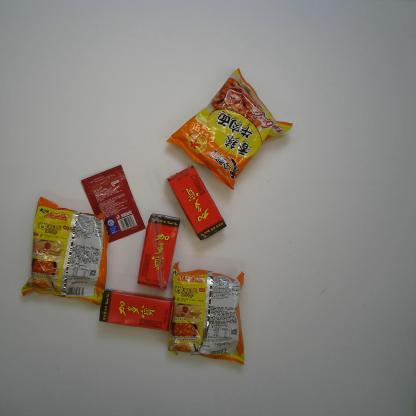Drink: (165, 164, 227, 242), (135, 212, 181, 291), (97, 288, 175, 332)
Instant Noodles: (163, 65, 296, 191), (19, 195, 113, 307), (167, 259, 246, 367)
Seasoner: (79, 162, 146, 246)
